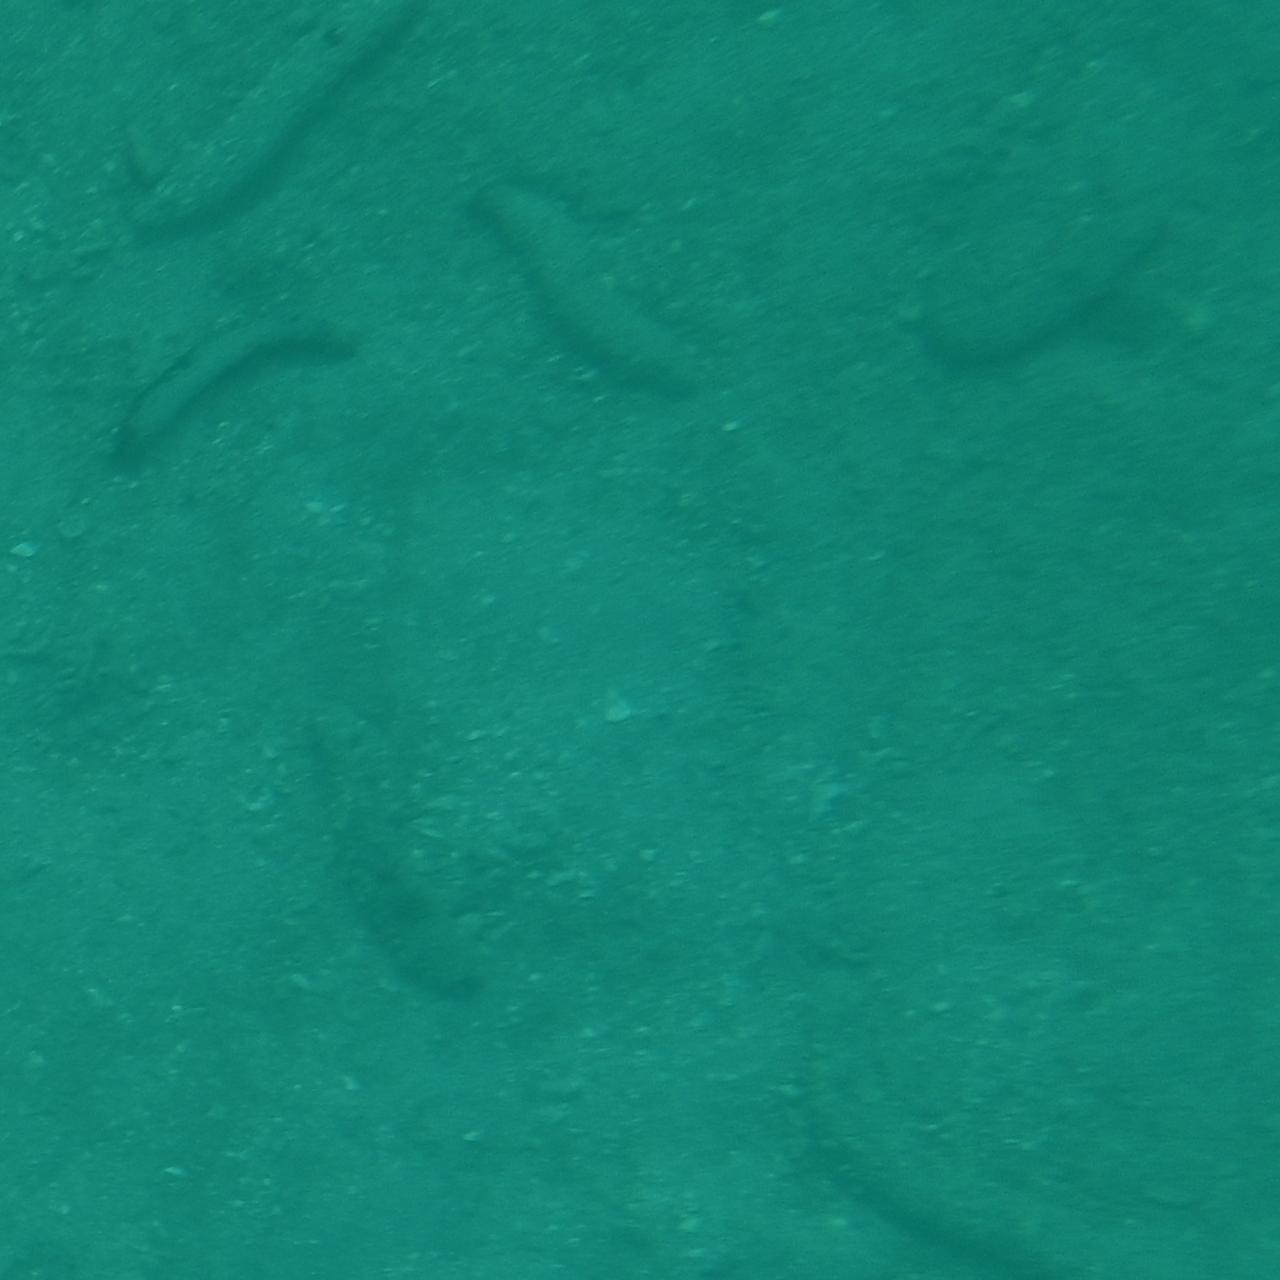Holothuria tubulosa: (787, 983, 1165, 1280), (127, 0, 437, 257), (286, 694, 484, 1012), (921, 190, 1191, 402), (485, 191, 721, 401), (93, 298, 358, 477)
